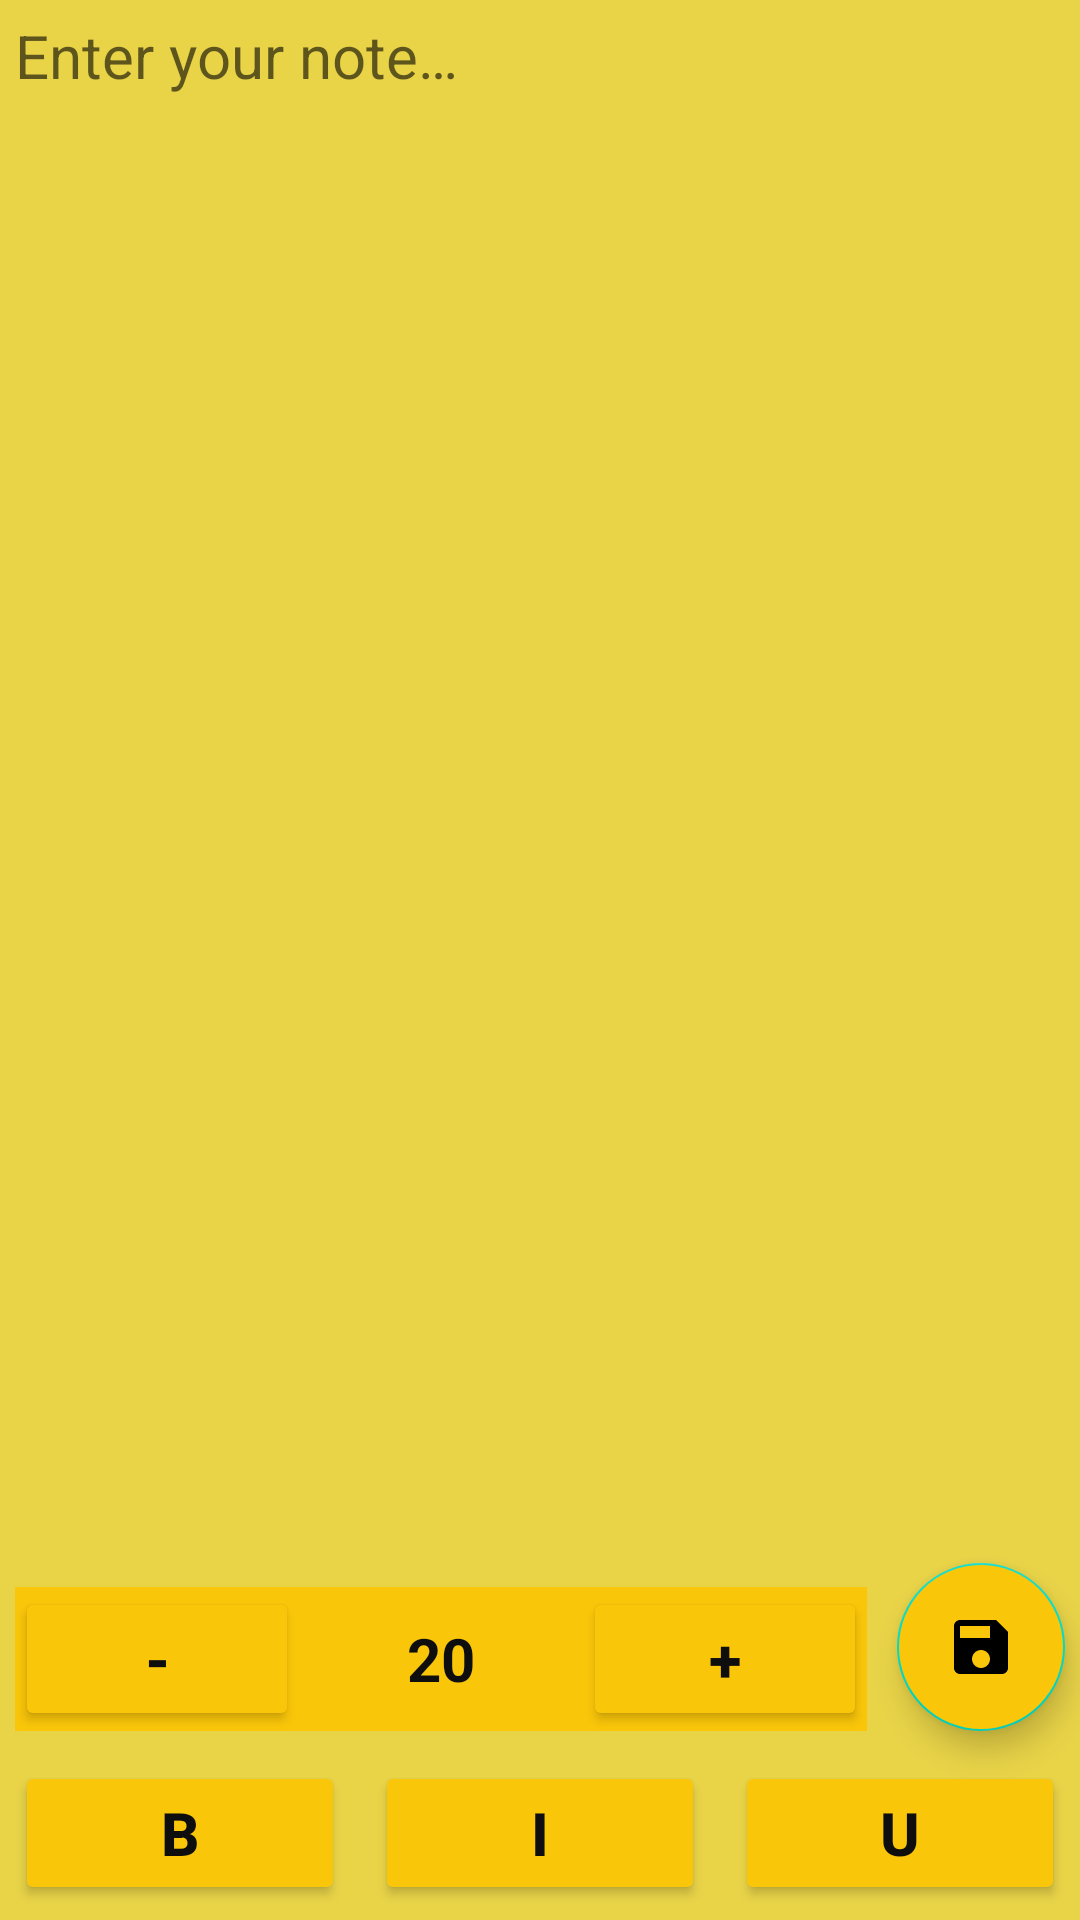

Icon click points for this 1080px x 1920px phone screenshot, format (x,y):
save: (981,1647)
